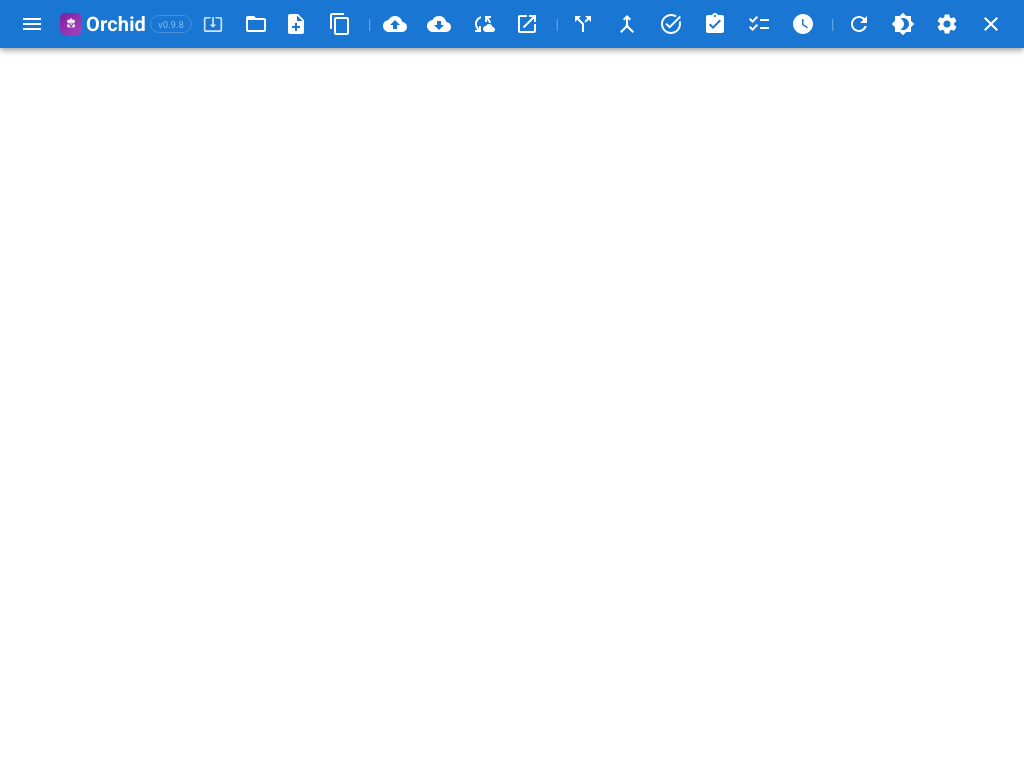
Test: shows confirm modal on Pull click
What coordinates should you click on to do the following:
click the button named "Pull"
I would click on:
 (440, 24)
Its box is x1=420 y1=4 x2=460 y2=44.
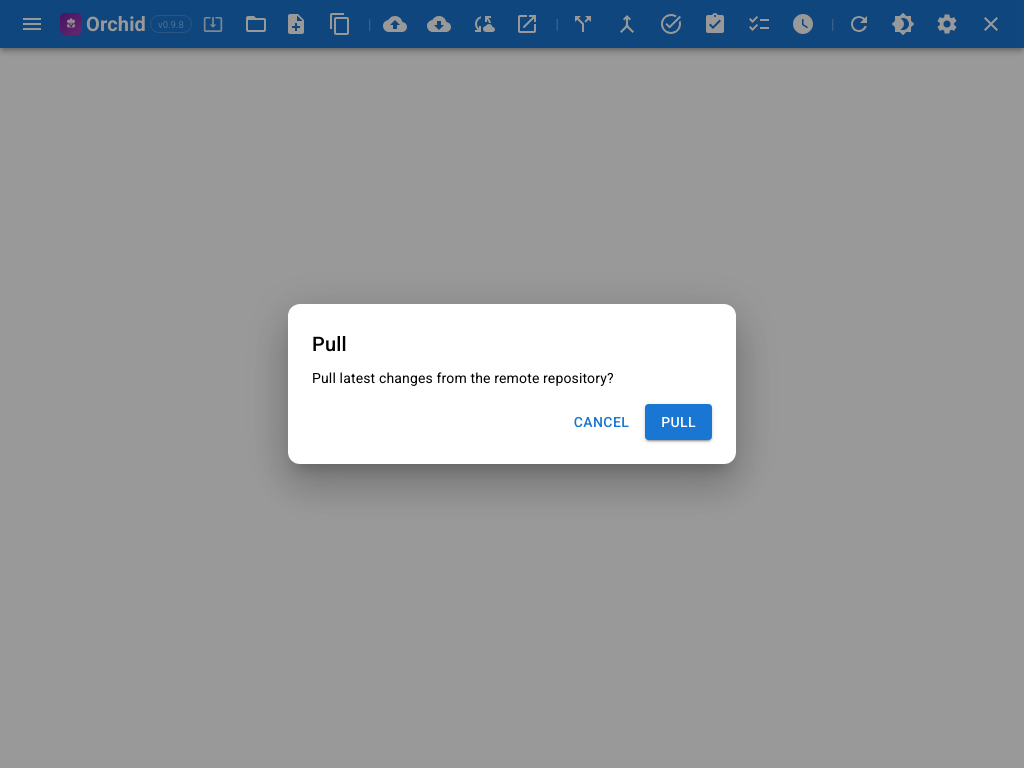
Check: the text "Pull latest changes from the remote repository?" is shown, box x1=312 y1=370 x2=614 y2=386
